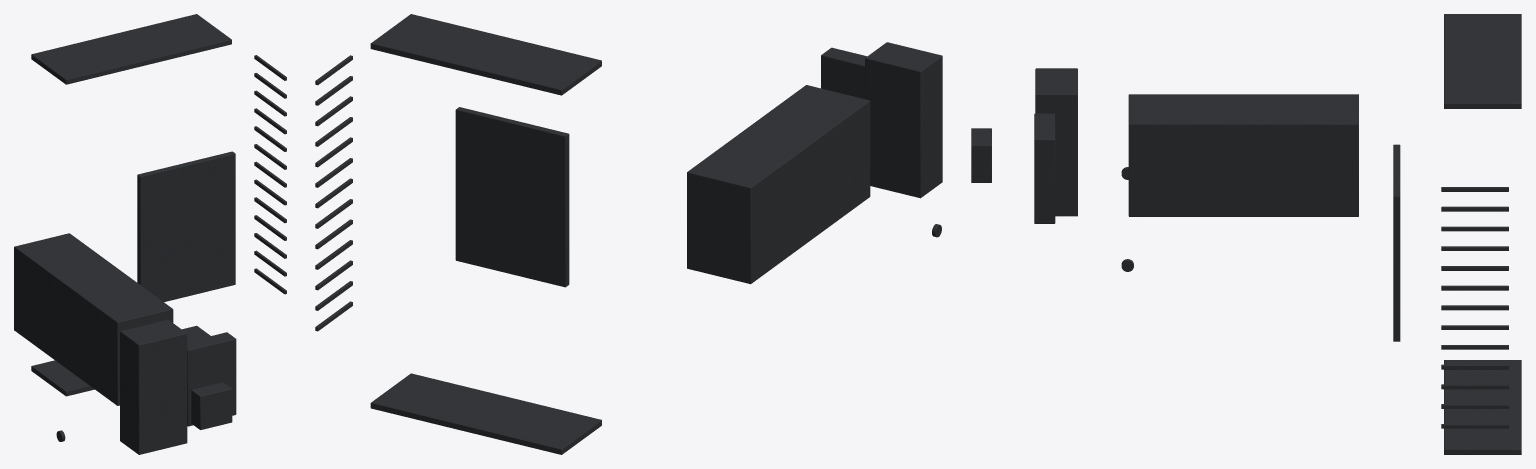
File: base_link_servo_black.obj
3 renders of one model, left to right at view 1: azimuth 30°, elevation 25°; view 2: azimuth 150°, elevation 25°; view 3: azimuth 270°, elevation 25°, orthographic. The views are drawn at different scales.
Visible parts, largest first — view 1: base_link__noco_gb70, base_link__control_panel, base_link__power_io, base_link__cut_to_edge_side_1, base_link__wiring_distribution, base_link__active_cooler, base_link__cut_to_edge_side_-1; view 2: base_link__noco_gb70, base_link__control_panel, base_link__power_io, base_link__cut_to_edge_side_1, base_link__cut_to_edge_side_-1, base_link__wiring_distribution; view 3: base_link__noco_gb70, base_link__cut_to_edge_side_1, base_link__cut_to_edge_side_-1, base_link__power_io, base_link__wiring_distribution, base_link__control_panel, base_link__active_cooler.
Part boxes in pixels (x1,y1,x2,y2): base_link__noco_gb70: (14,233,173,405); base_link__control_panel: (137,151,235,301); base_link__power_io: (120,319,187,454); base_link__cut_to_edge_side_1: (31,14,231,84); base_link__wiring_distribution: (187,332,236,426); base_link__active_cooler: (191,382,232,429); base_link__cut_to_edge_side_-1: (31,325,210,396); base_link__noco_gb70: (687,85,870,284); base_link__control_panel: (455,107,569,287); base_link__power_io: (865,42,942,198); base_link__cut_to_edge_side_1: (370,14,601,95); base_link__cut_to_edge_side_-1: (370,373,601,454); base_link__wiring_distribution: (821,47,866,98); base_link__noco_gb70: (1128,94,1358,216); base_link__cut_to_edge_side_1: (1444,14,1521,108); base_link__cut_to_edge_side_-1: (1444,360,1521,454); base_link__power_io: (1035,68,1077,216); base_link__wiring_distribution: (1034,113,1055,223); base_link__control_panel: (1393,144,1400,341); base_link__active_cooler: (971,128,991,182).
Size of the model in its own units: 0.456 by 0.374 by 0.531.
1 material, 1 textured.
